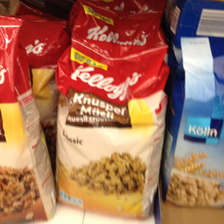cereal: (54, 60, 169, 219), (166, 41, 224, 210)
